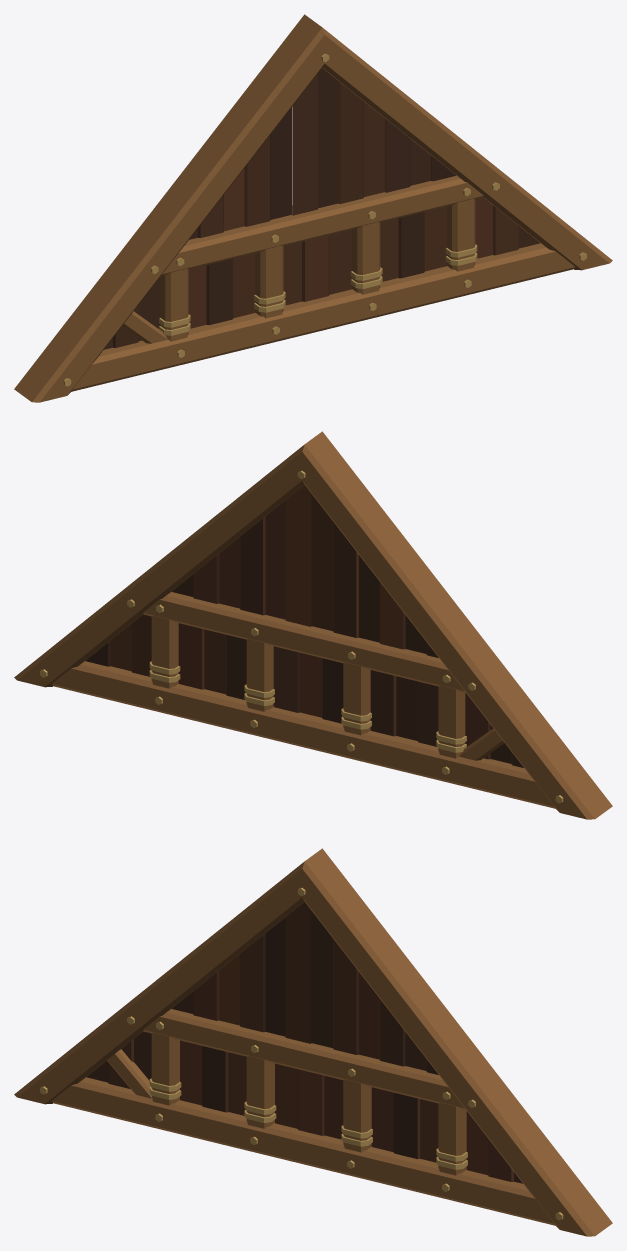
The model's file is modular-gable-infill-e16669.glb.
3 renders of one model, top to bottom at view 1: azimuth 30°, elevation 25°; view 2: azimuth 150°, elevation 25°; view 3: azimuth 330°, elevation 25°, orthographic.
Parts seen in each view (by area): view 1: gable-infill; view 2: gable-infill; view 3: gable-infill.
Boxes of the visible parts, bbox=[...] form: gable-infill: bbox=[14, 14, 612, 402]; gable-infill: bbox=[14, 431, 612, 819]; gable-infill: bbox=[14, 848, 612, 1236].
Size of the model in its own units: 3 by 1.5 by 0.224.
